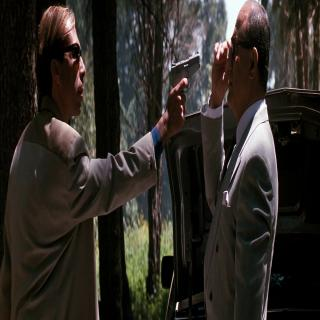gun: (168, 48, 201, 135)
